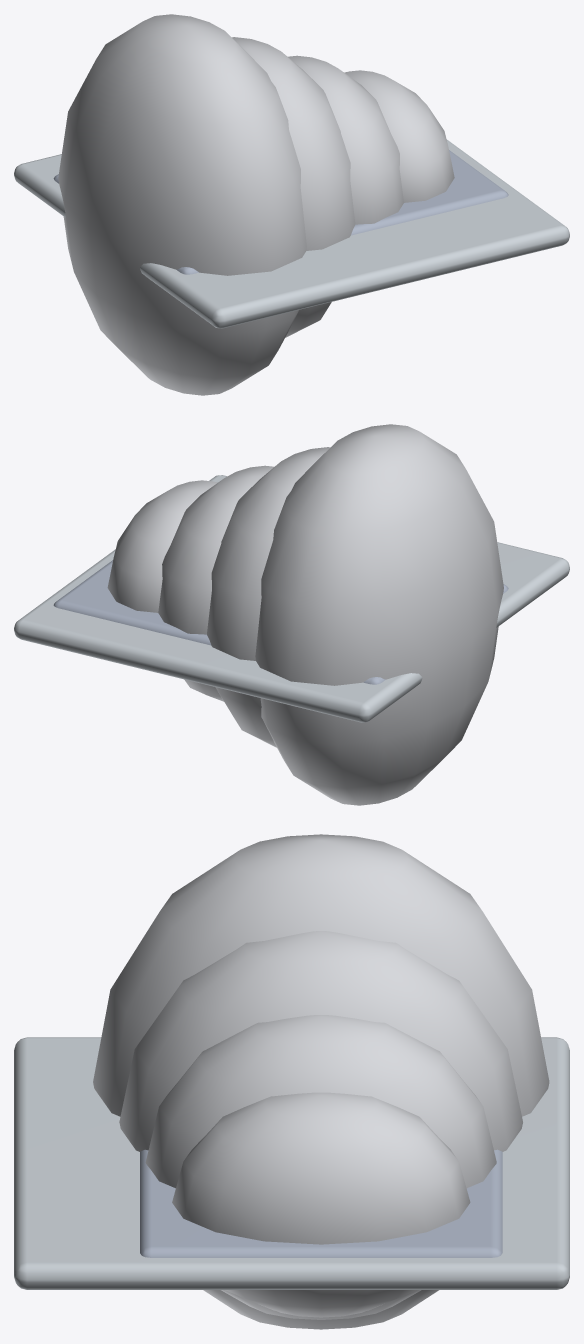
3 views of the same model, one above another, from view 1: azimuth 30°, elevation 25°; view 2: azimuth 150°, elevation 25°; view 3: azimuth 270°, elevation 25° (orthographic). The views are drawn at different scales.
Parts seen in each view (by area): view 1: Cube; view 2: Cube; view 3: Cube.
Boxes of the visible parts, box(x1,y1,x2,y2) form: Cube: box(14, 14, 569, 395); Cube: box(14, 424, 569, 805); Cube: box(14, 834, 569, 1329).
Size of the model in its own units: 0.788 by 0.728 by 0.76.
